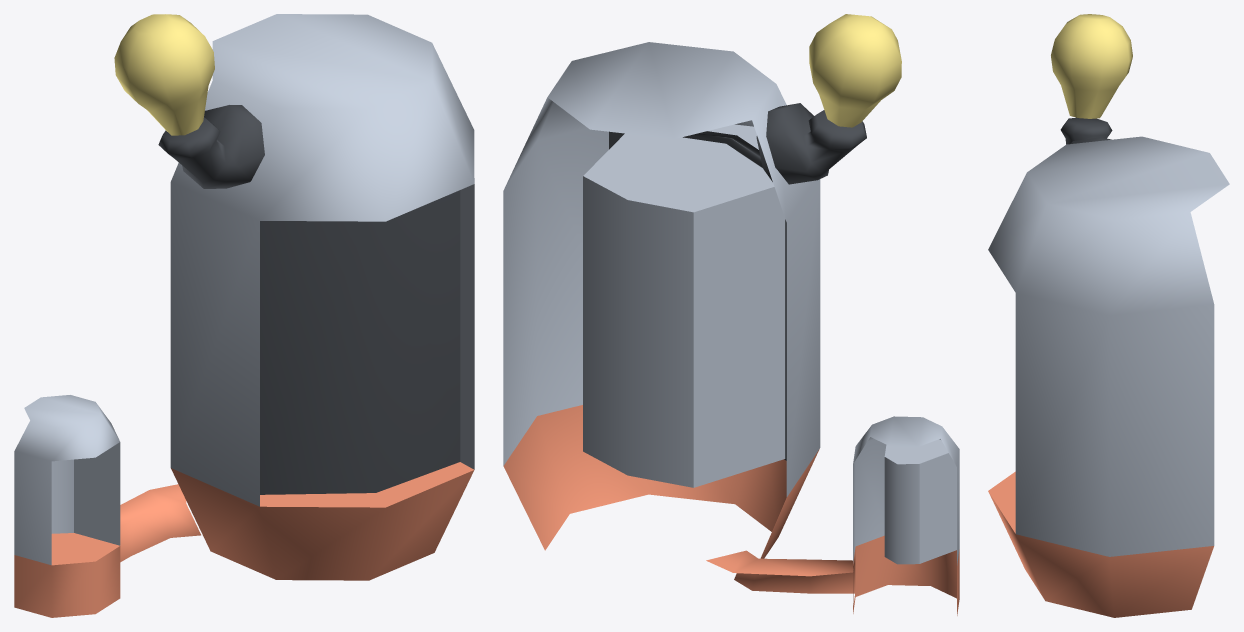
File: GenAnimel.fbx
3 renders of one model, left to right at view 1: azimuth 30°, elevation 25°; view 2: azimuth 150°, elevation 25°; view 3: azimuth 270°, elevation 25°, orthographic. The views are drawn at different scales.
Visible parts, largest first — view 1: AnimalGenerator:pCylinder4, pCube1, pSphere1, pCylinder3; view 2: AnimalGenerator:pCylinder4, pSphere1, pCylinder3, pCube1; view 3: AnimalGenerator:pCylinder4, pSphere1, pCylinder3.
Part boxes in pixels (bbox=[...]): AnimalGenerator:pCylinder4: bbox=[14, 14, 474, 617]; pCube1: bbox=[260, 190, 460, 494]; pSphere1: bbox=[114, 14, 214, 135]; pCylinder3: bbox=[158, 105, 264, 188]; AnimalGenerator:pCylinder4: bbox=[503, 42, 959, 615]; pSphere1: bbox=[809, 14, 901, 127]; pCylinder3: bbox=[756, 103, 866, 184]; pCube1: bbox=[609, 131, 786, 460]; AnimalGenerator:pCylinder4: bbox=[988, 136, 1229, 617]; pSphere1: bbox=[1051, 14, 1132, 118]; pCylinder3: bbox=[1060, 117, 1112, 144].
Size of the model in its own units: 18.09 by 22.2 by 10.03.
